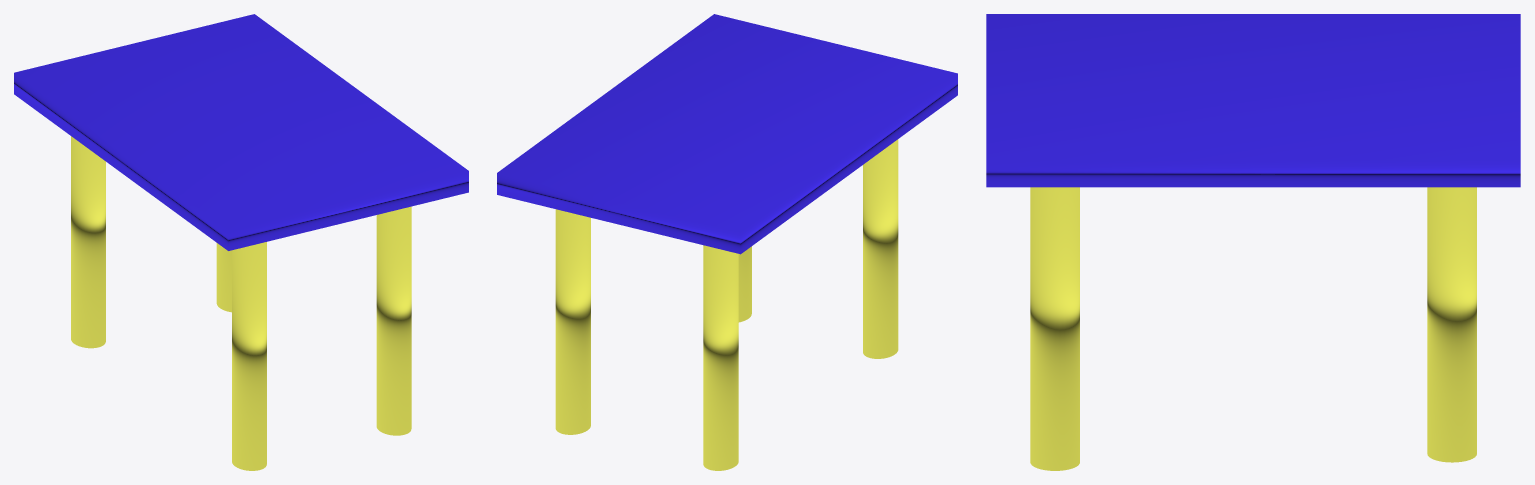
File: obsttask204.fbx
3 views of the same model, side by side, from view 1: azimuth 30°, elevation 25°; view 2: azimuth 150°, elevation 25°; view 3: azimuth 270°, elevation 25° (orthographic). The views are drawn at different scales.
Parts seen in each view (by area): view 1: Cube; view 2: Cube; view 3: Cube.
Boxes of the visible parts, x1,y1,x2,y2 form: Cube: (14, 14, 468, 470); Cube: (497, 14, 957, 470); Cube: (986, 14, 1520, 470).
Size of the model in its own units: 302 by 318 by 465.
